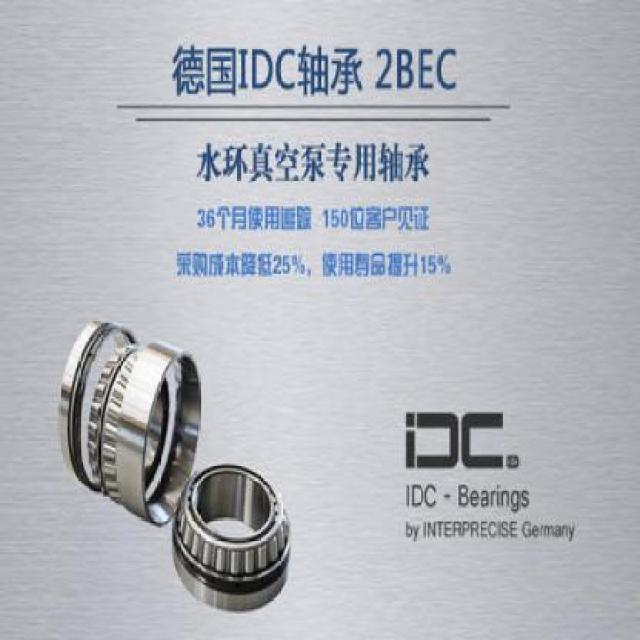Bearing: (61, 314, 171, 529), (172, 460, 304, 614)
